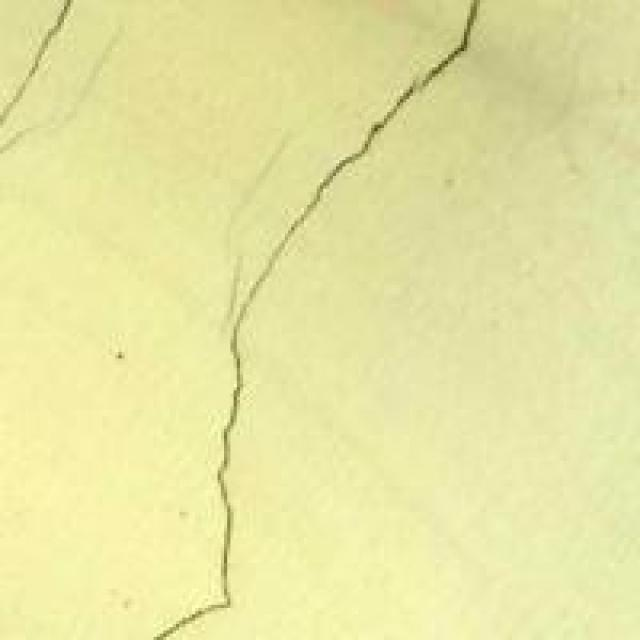Crack: (112, 3, 506, 637)
